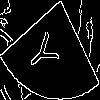Y: (25, 25, 66, 79)
